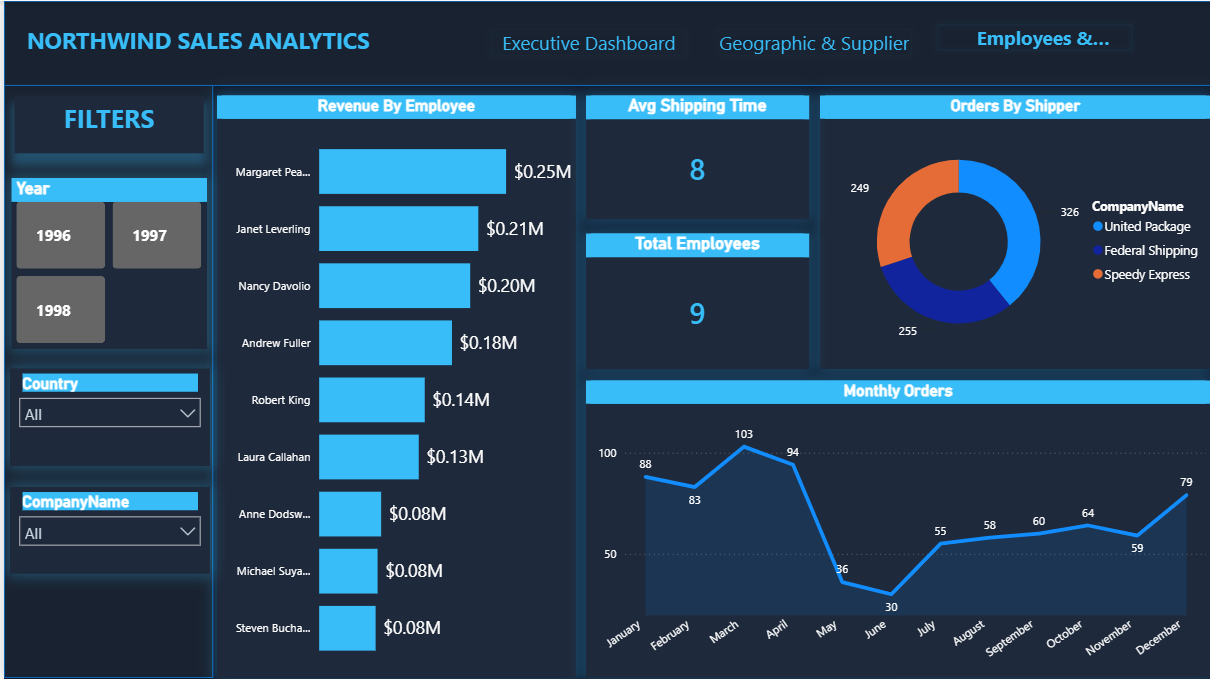

This screenshot's page, from the dashboard's own definition file:
{"tool":"powerbi","page":{"name":"Employees & Shipping","canvas":[1280,720],"ordinal":2},"visuals":[{"type":"shape","box":[0,0,1280,90],"z":0},{"type":"shape","box":[0,89.1,221.8,629.9],"z":1000},{"type":"clusteredBarChart","title":"Revenue By Employee ","fields":{"Y":["Sum(OrderDetails.Total Sales)"],"Category":["Employees.Name"]},"box":[225.1,100.4,380.5,618.5],"z":2000},{"type":"lineChart","title":"Monthly Orders","fields":{"Y":["CountNonNull(Orders.OrderID)"],"Category":["Orders.OrderDate.Variation.Date Hierarchy.Month"]},"box":[616.9,403.2,662.3,315.7],"z":3000},{"type":"textbox","box":[19.4,19.4,385.4,51.8],"z":4000},{"type":"donutChart","title":"Orders By Shipper","fields":{"Category":["Shippers.CompanyName"],"Y":["CountNonNull(Orders.ShipVia)"]},"box":[864.7,100.4,414.5,289.8],"z":5000},{"type":"textbox","box":[11.3,100.4,200.8,61.5],"z":6000},{"type":"cardVisual","title":"Avg Shipping Time","fields":{"Data":["Avg(vw_AvgTime.AvgShippingDays)"]},"box":[616.9,100.4,236.4,131.2],"z":7000},{"type":"cardVisual","title":"Total Employees","fields":{"Data":["CountNonNull(Employees.EmployeeID)"]},"box":[616.9,246.1,236.4,144.1],"z":8000},{"type":"pageNavigator","box":[505.2,19.4,709.2,50.2],"z":9000},{"type":"slicer","fields":{"Values":["Suppliers.Country"]},"box":[6.5,390.2,212.1,103.6],"z":10000},{"type":"slicer","fields":{"Values":["Shippers.CompanyName"]},"box":[6.5,514.9,212.1,92.3],"z":11000},{"type":"advancedSlicerVisual","fields":{"Values":["Orders.OrderDate.Variation.Date Hierarchy.Year"]},"box":[8.1,187.8,207.3,181.4],"z":12000}]}

Visuals, with their boxes in screenshot pixels (x1, y1, x2, y2), scaled from the page's 1280x720 canvas onto the 1210x679 screenshot:
shape: detection(0, 0, 1209, 85)
shape: detection(0, 84, 210, 678)
"Revenue By Employee " clusteredBarChart: detection(213, 95, 572, 678)
"Monthly Orders" lineChart: detection(583, 380, 1209, 678)
textbox: detection(18, 18, 383, 67)
"Orders By Shipper" donutChart: detection(817, 95, 1209, 368)
textbox: detection(11, 95, 201, 153)
"Avg Shipping Time" cardVisual: detection(583, 95, 807, 218)
"Total Employees" cardVisual: detection(583, 232, 807, 368)
pageNavigator: detection(478, 18, 1148, 66)
slicer - Suppliers.Country: detection(6, 368, 207, 466)
slicer - Shippers.CompanyName: detection(6, 486, 207, 573)
advancedSlicerVisual - Orders.OrderDate.Variation.Date Hierarchy.Year: detection(8, 177, 204, 348)
